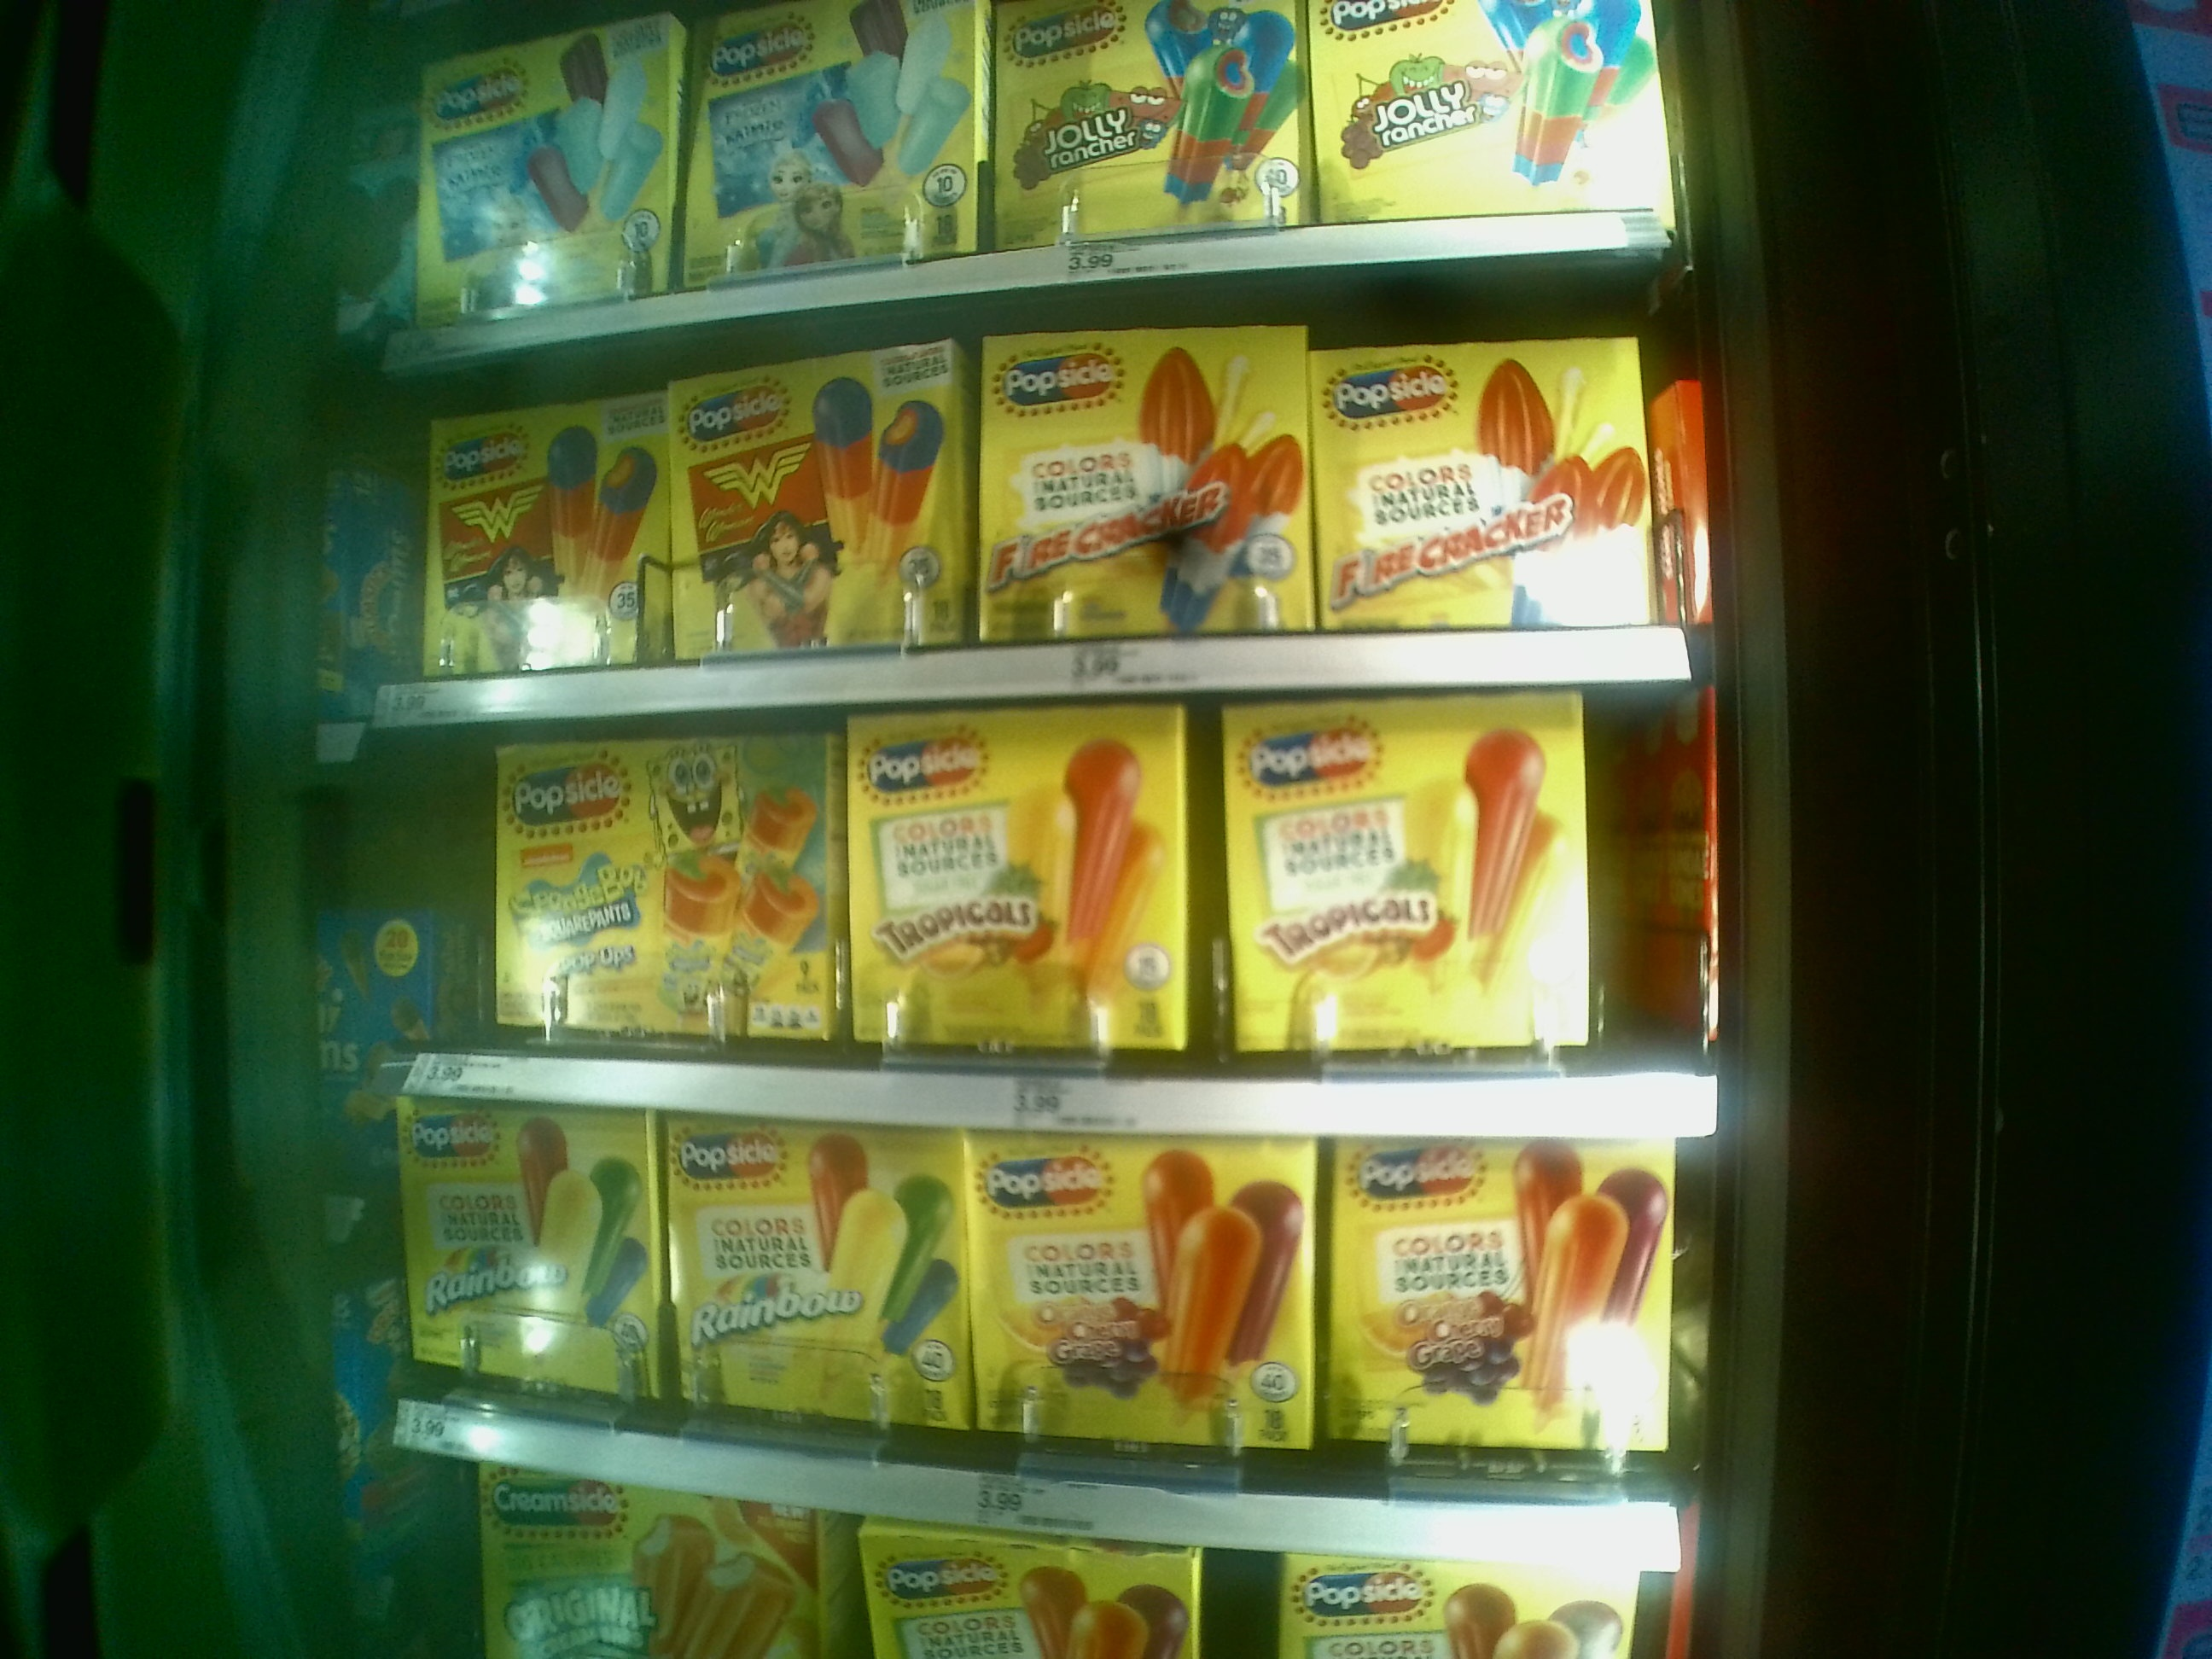shelf: (378, 1114, 1716, 1560), (376, 711, 1712, 1126), (373, 319, 1703, 714)
